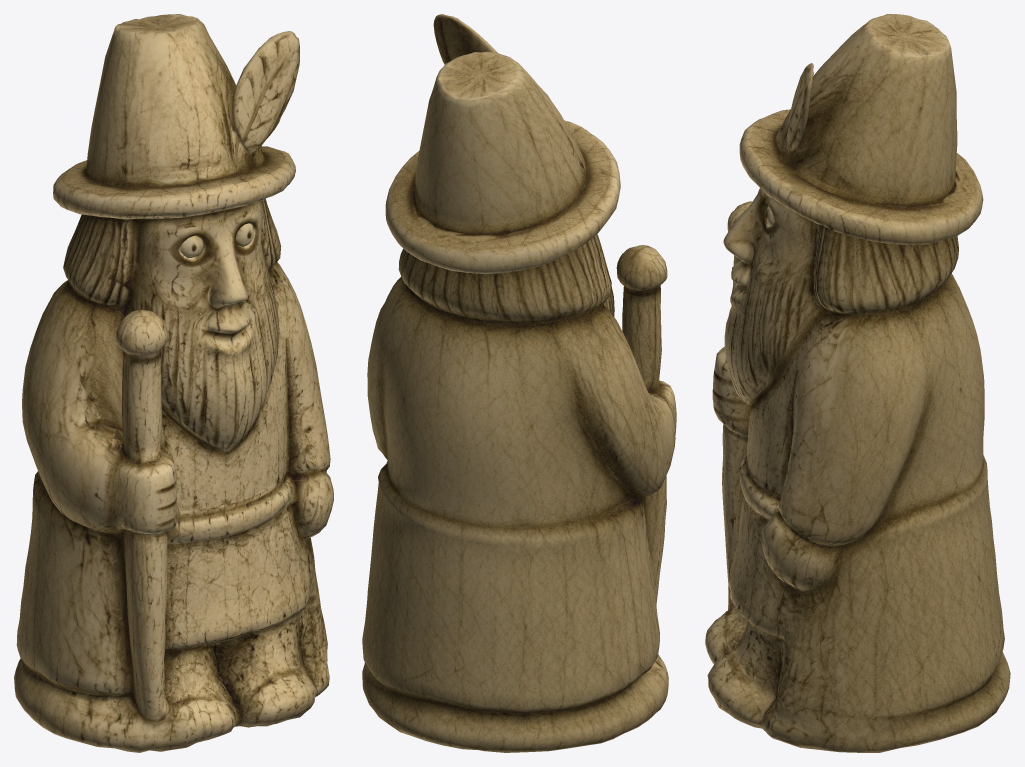
The model's file is tom.glb.
3 views of the same model, side by side, from view 1: azimuth 30°, elevation 25°; view 2: azimuth 150°, elevation 25°; view 3: azimuth 270°, elevation 25° (orthographic). The views are drawn at different scales.
Visible parts, largest first — view 1: mesh_node; view 2: mesh_node; view 3: mesh_node.
Part boxes in pixels (box(x1,y1,x2,y2)): mesh_node: box(14, 14, 333, 752); mesh_node: box(362, 14, 676, 752); mesh_node: box(705, 14, 1010, 752).
Bounding box in the file's own units: 0.4424 × 1 × 0.4151.
1 material, 1 textured.
